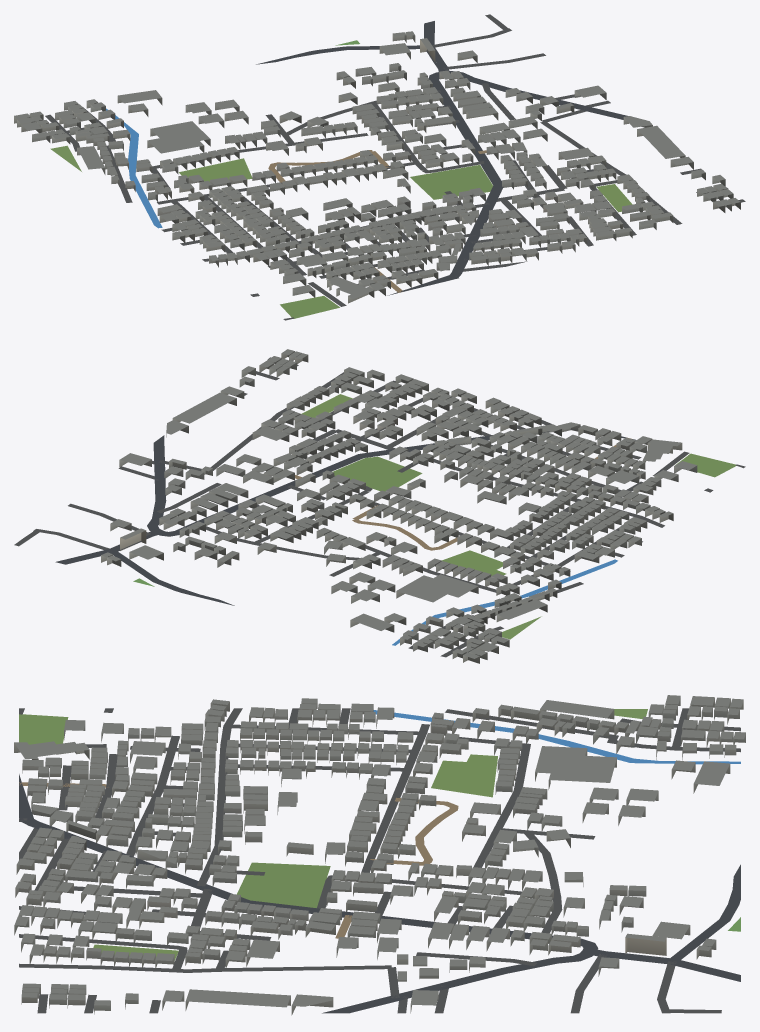
3 renders of one model, top to bottom at view 1: azimuth 30°, elevation 25°; view 2: azimuth 150°, elevation 25°; view 3: azimuth 270°, elevation 25°, orthographic. The views are drawn at different scales.
Parts seen in each view (by area): view 1: building, ground, water; view 2: building, ground, water; view 3: building, ground, water.
Boxes of the visible parts, box(x1,y1,x2,y2) form: building: box(14, 31, 740, 303); ground: box(45, 14, 745, 320); water: box(106, 108, 162, 228); building: box(101, 349, 697, 663); ground: box(14, 357, 745, 657); water: box(392, 559, 617, 645); building: box(14, 695, 745, 1015); ground: box(19, 708, 740, 1013); water: box(373, 710, 740, 764).
Size of the model in its own units: 512 by 14 by 507.
